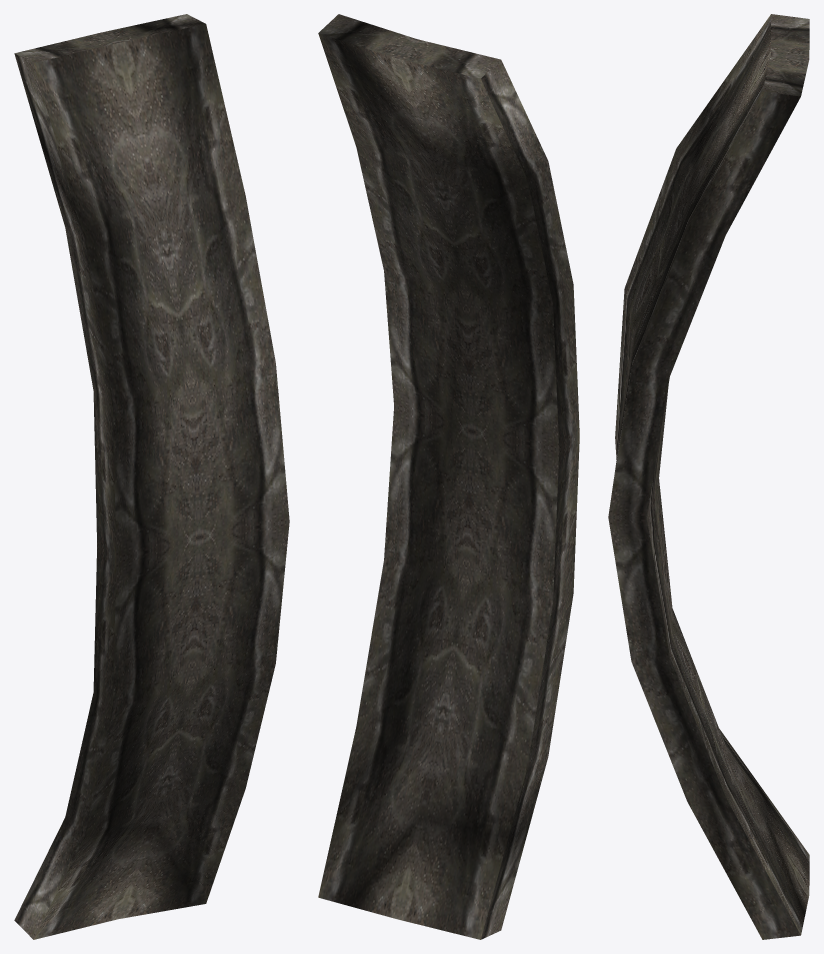
Rendered from bridge_04.obj.
3 views of the same model, side by side, from view 1: azimuth 30°, elevation 25°; view 2: azimuth 150°, elevation 25°; view 3: azimuth 270°, elevation 25° (orthographic). The views are drawn at different scales.
Visible parts, largest first — view 1: (null); view 2: (null); view 3: (null).
Part boxes in pixels (bbox=[...]): (null): bbox=[14, 14, 289, 939]; (null): bbox=[318, 14, 579, 939]; (null): bbox=[608, 14, 809, 939].
Size of the model in its own units: 1.98 by 9.64 by 2.07.
